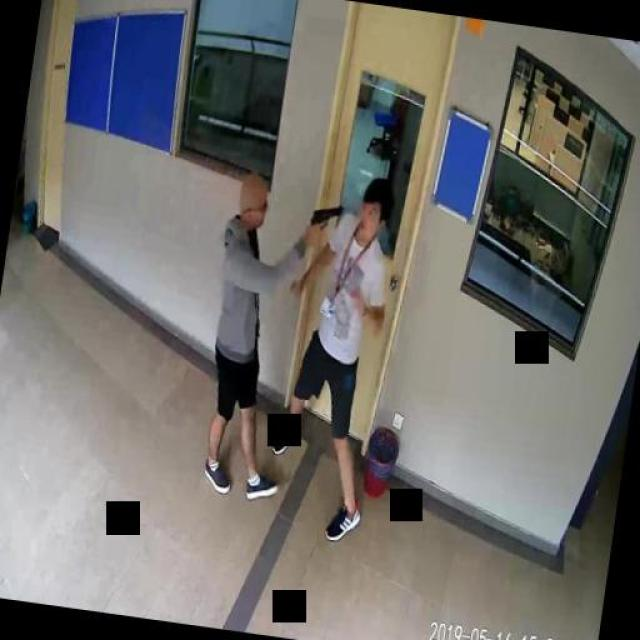gun: (305, 200, 343, 241)
